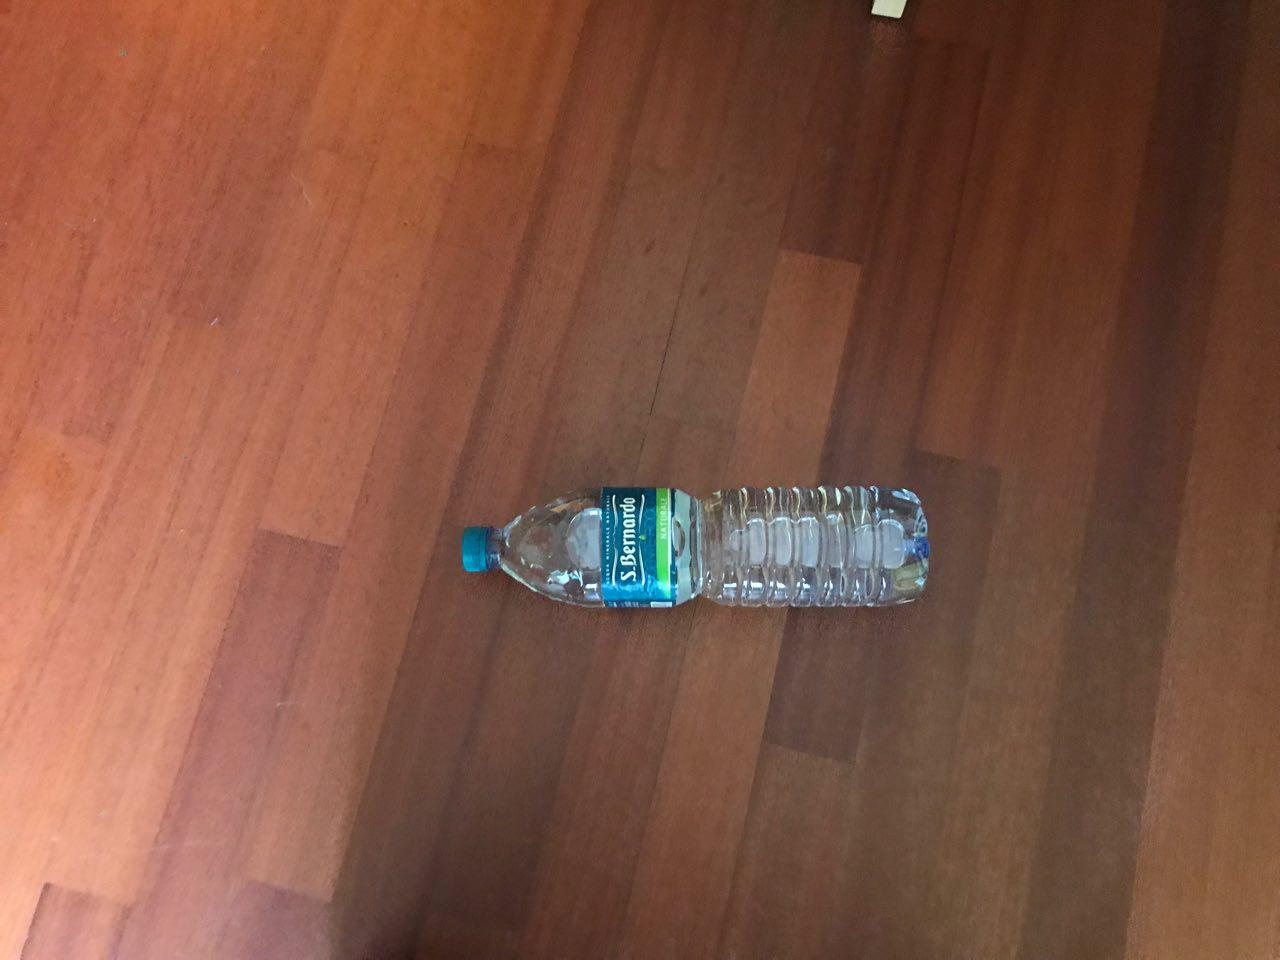san_bernardo: (459, 485, 932, 611)
